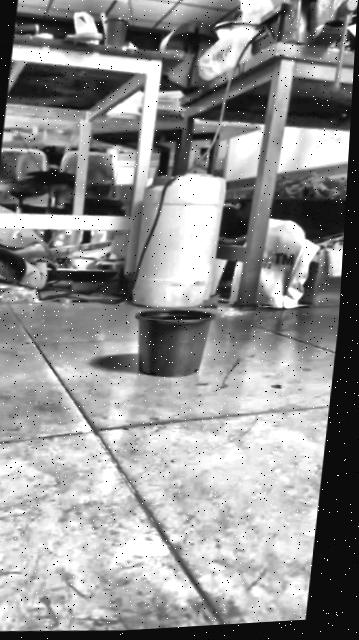pot: (127, 303, 215, 380)
